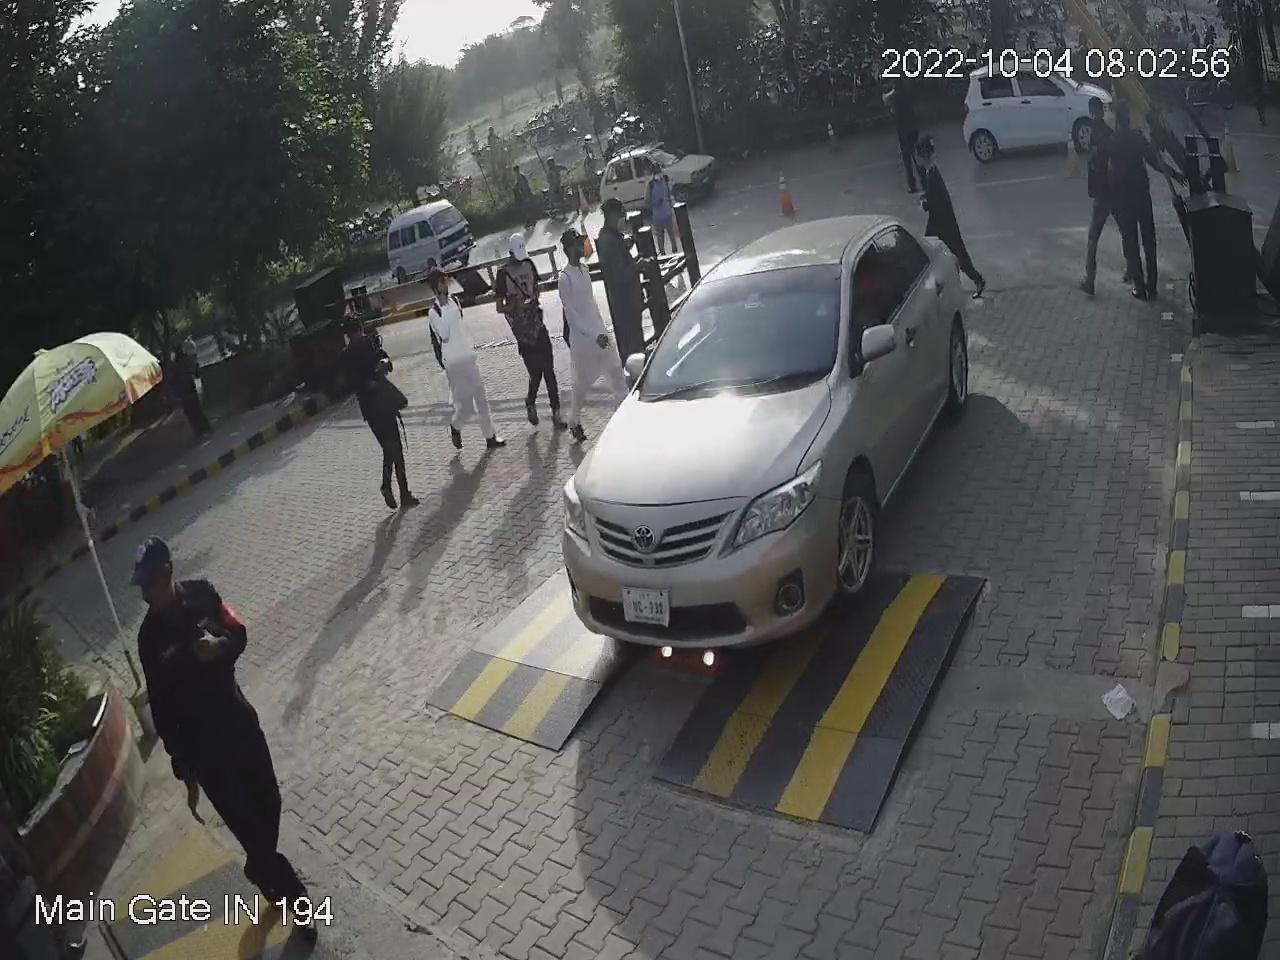windshield: (633, 252, 856, 392)
